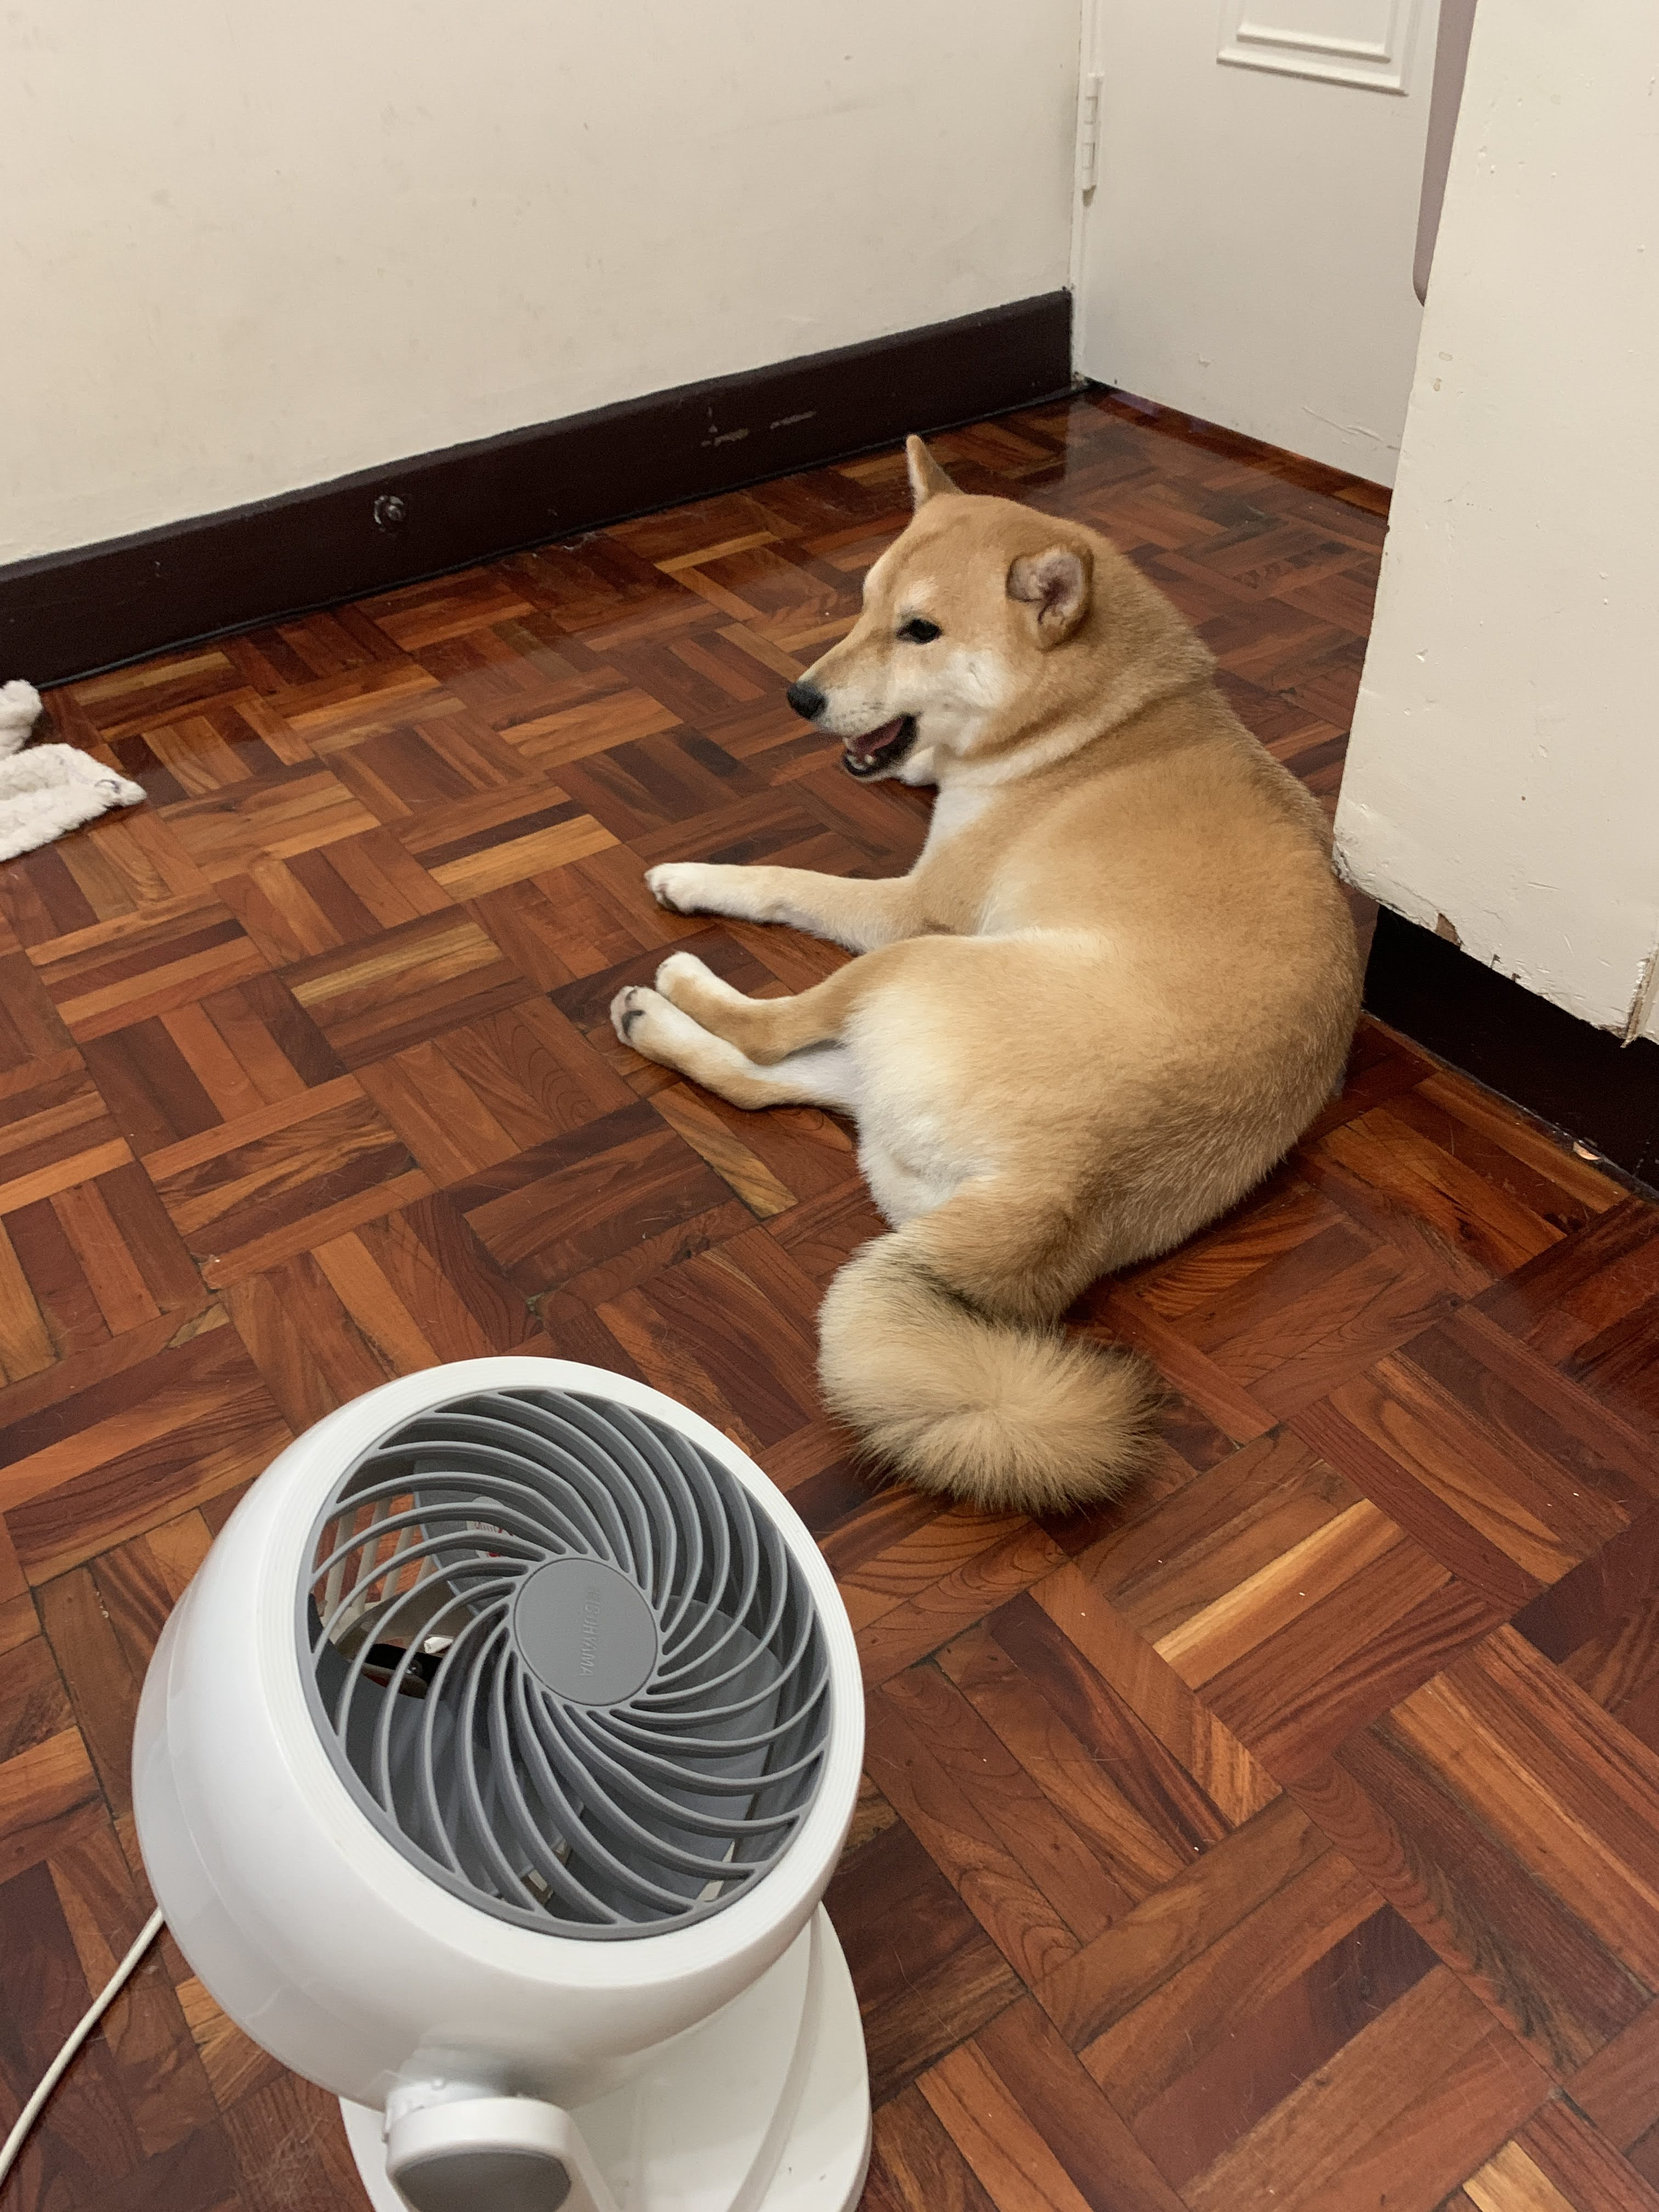Lie down: (626, 428, 1431, 1505)
